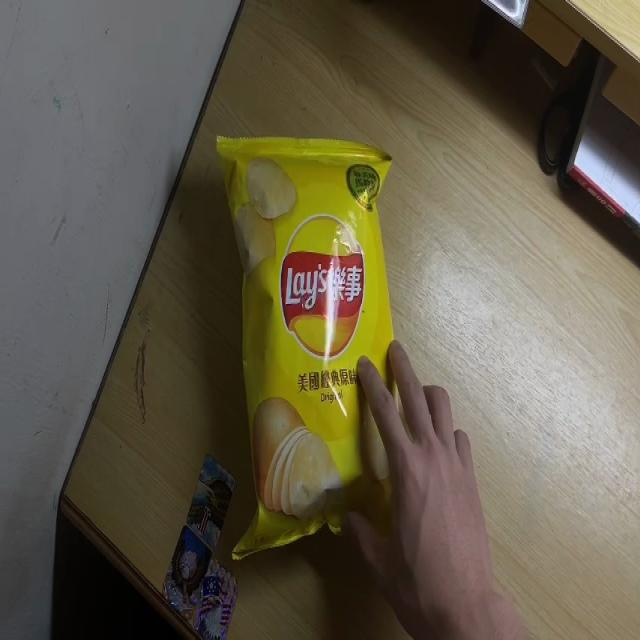Lay-s-original: (216, 134, 426, 559)
